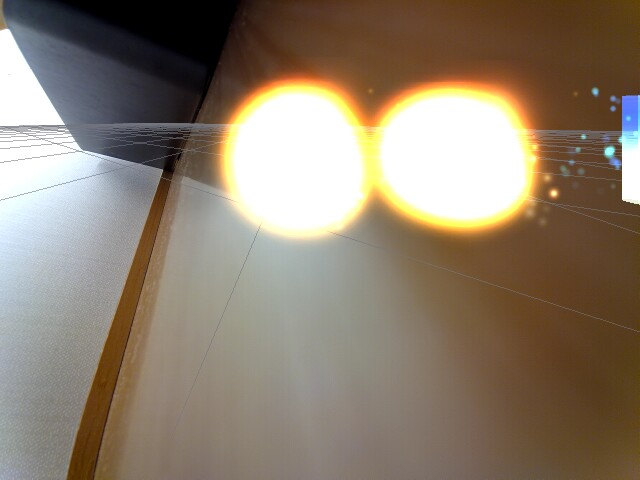firebig: (371, 78, 537, 233)
